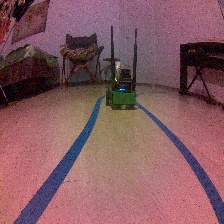rob: (104, 66, 137, 110)
